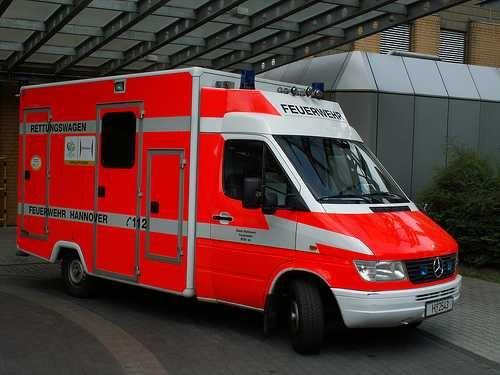car: (14, 65, 462, 354)
